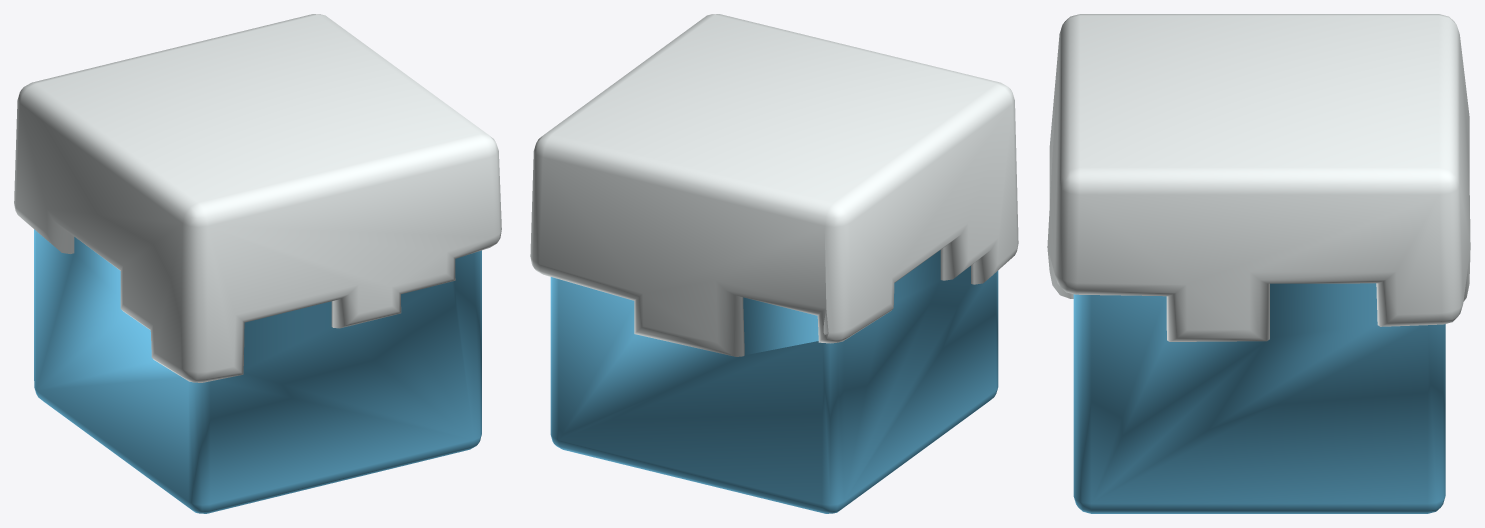
Rendered from Suelo_nieve_hielo.glb.
The picture shows the model from 3 angles, left to right: view 1: azimuth 30°, elevation 25°; view 2: azimuth 150°, elevation 25°; view 3: azimuth 270°, elevation 25°; orthographic projection. The views are drawn at different scales.
Visible parts, largest first — view 1: Cube; view 2: Cube; view 3: Cube.
Boxes of the visible parts, x1,y1,x2,y2 form: Cube: (14,14,501,513); Cube: (530,14,1018,513); Cube: (1047,14,1470,513).
Bounding box in the file's own units: 2.04 × 1.87 × 2.05.
